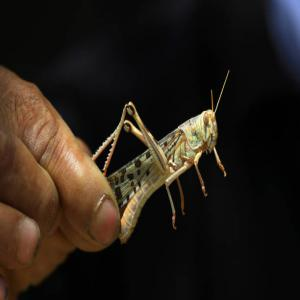locust: (105, 90, 232, 243)
